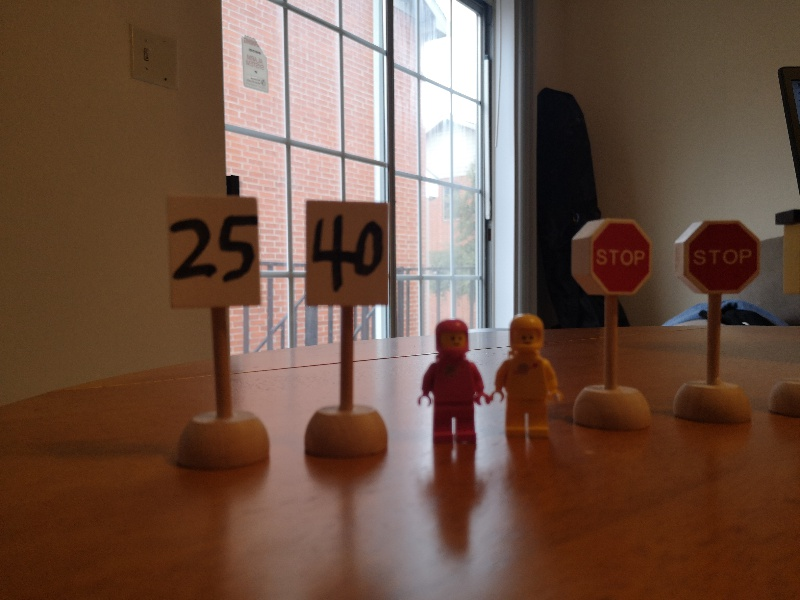Person: (419, 318, 492, 444), (495, 316, 562, 441)
Speed Limit 25: (164, 195, 264, 311)
Speed Limit 40: (304, 200, 389, 308)
Stop Sign: (572, 217, 657, 297), (676, 219, 762, 296)
